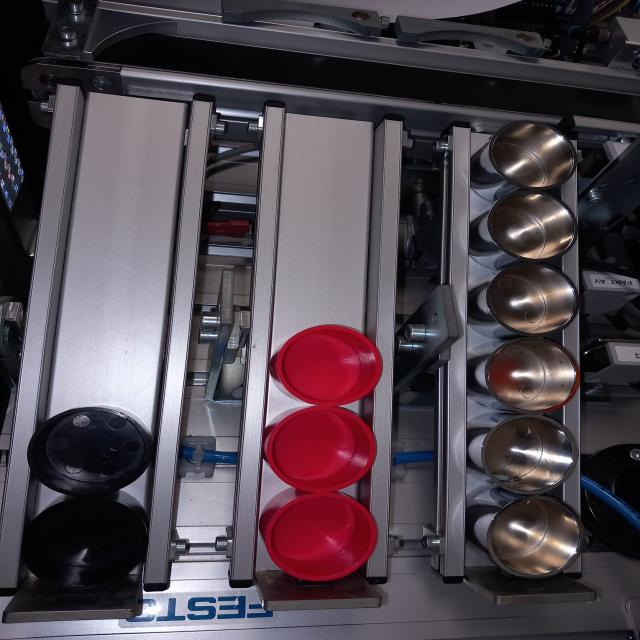NoLid: (256, 492, 384, 582), (35, 405, 154, 497), (260, 405, 377, 494), (465, 492, 582, 578), (271, 320, 384, 404), (463, 193, 581, 272), (470, 418, 580, 496), (470, 337, 576, 415), (471, 266, 580, 340), (480, 117, 568, 194), (47, 503, 140, 575)
